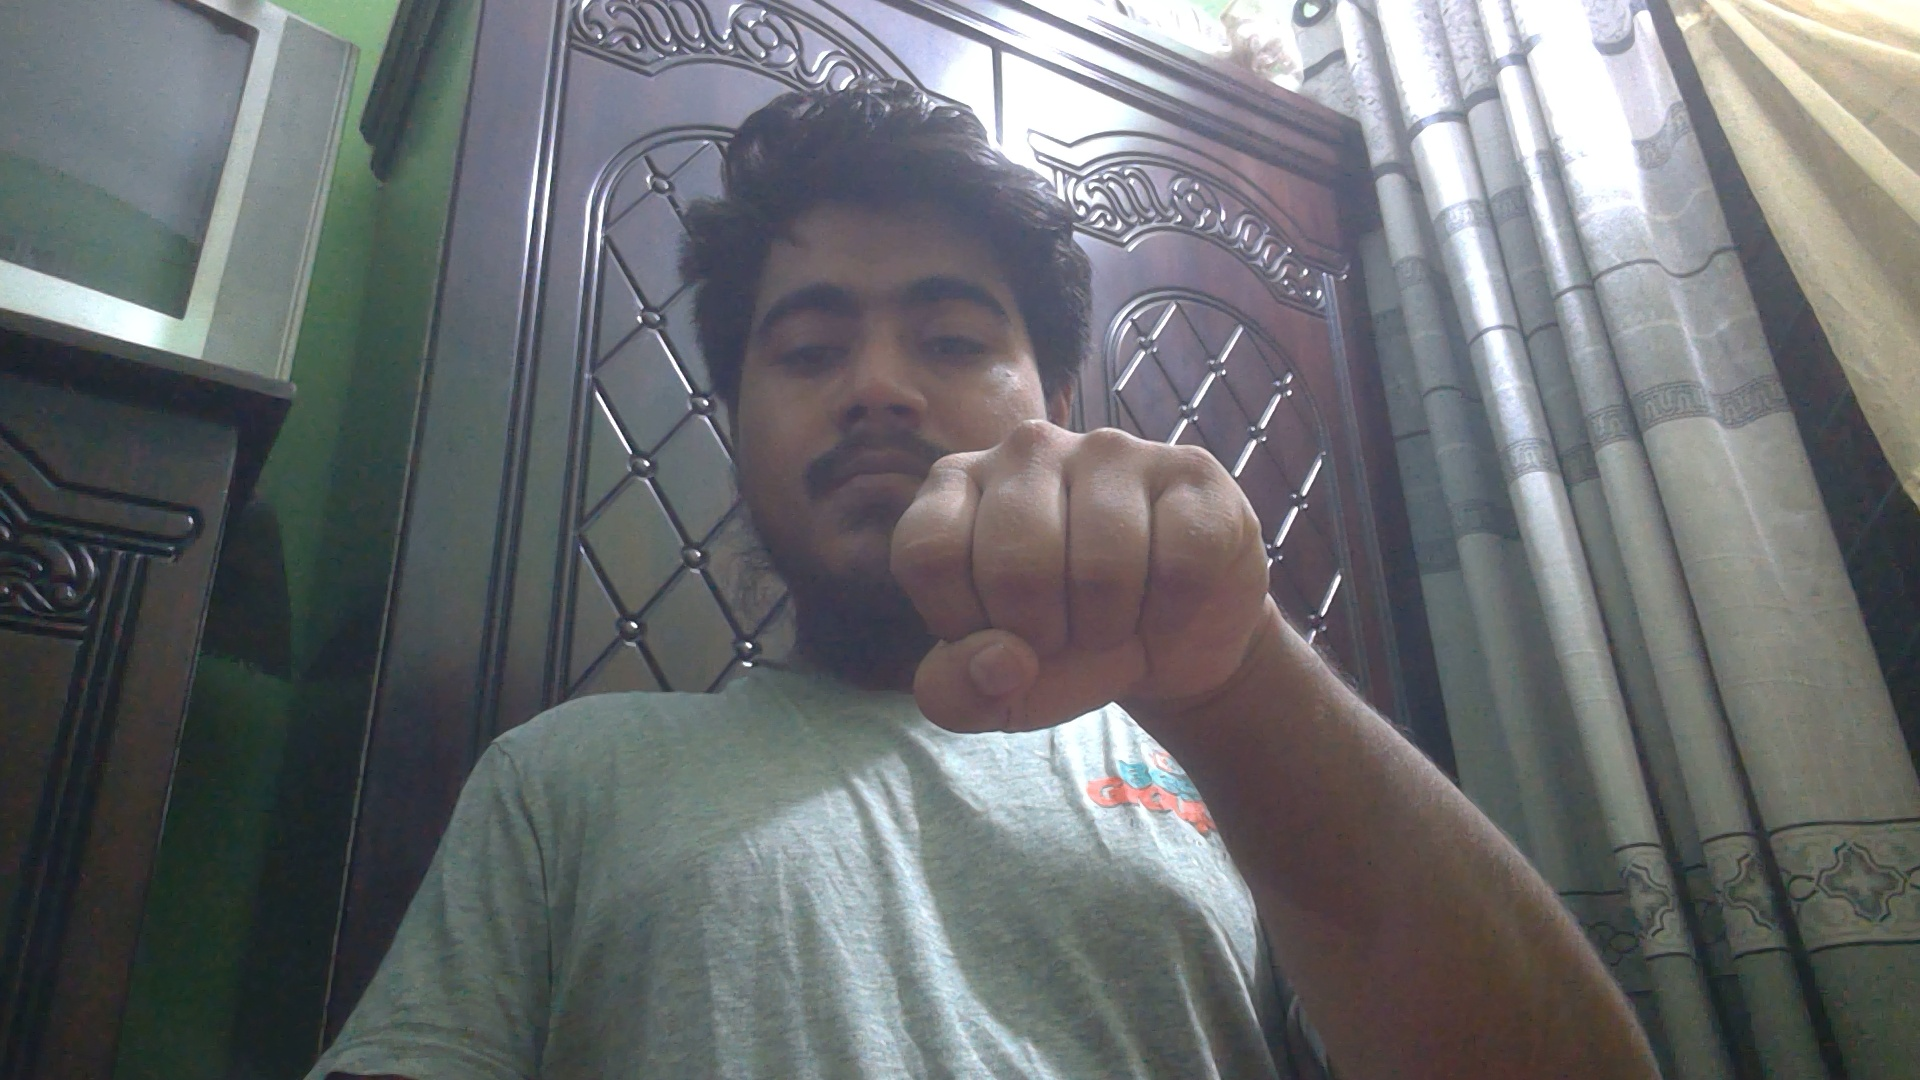yes: (878, 413, 1280, 749)
